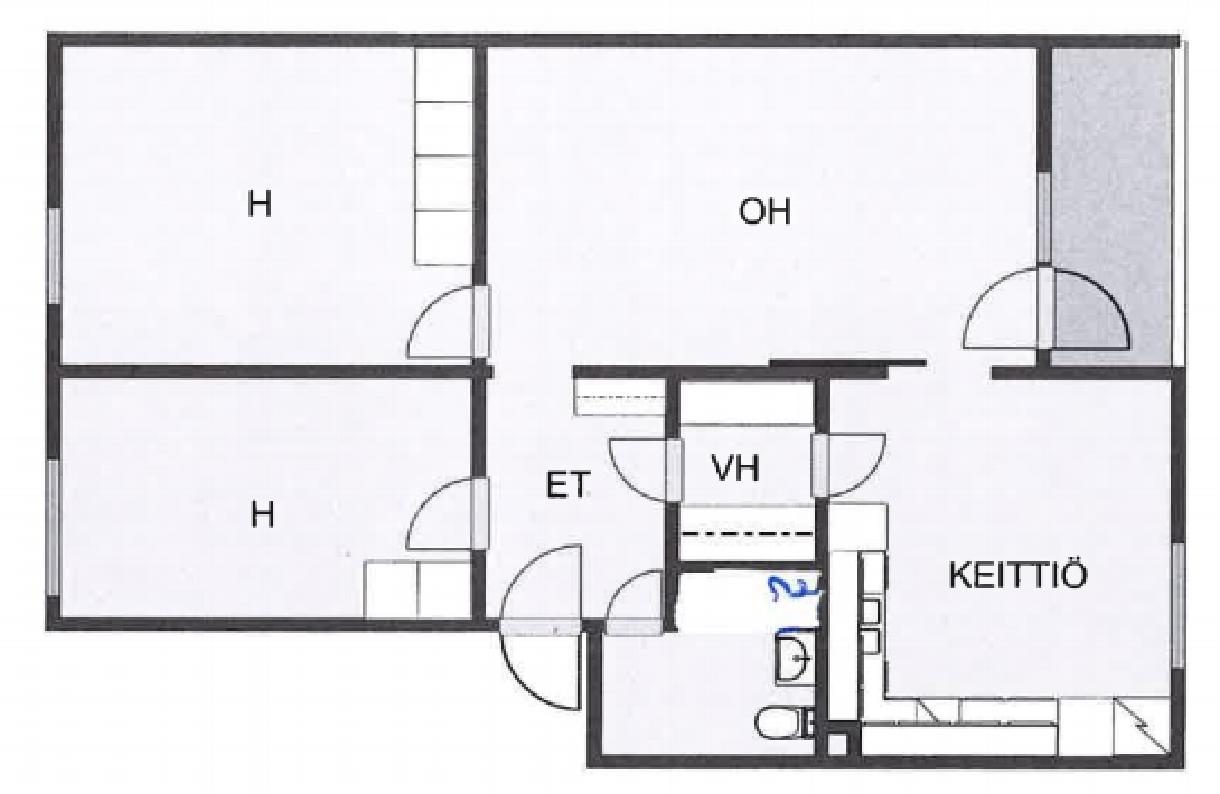door: (496, 534, 590, 722), (956, 263, 1132, 359), (388, 294, 491, 366), (397, 478, 488, 554), (595, 570, 672, 643), (605, 434, 683, 506), (806, 434, 891, 495)
window: (40, 457, 63, 596), (1167, 540, 1189, 675), (45, 201, 66, 305), (1038, 171, 1055, 265)
zone: (484, 48, 1034, 362), (62, 46, 467, 363), (830, 379, 1170, 752), (67, 376, 466, 614), (483, 377, 664, 620), (1052, 47, 1176, 366), (610, 559, 817, 746), (680, 380, 814, 560)
